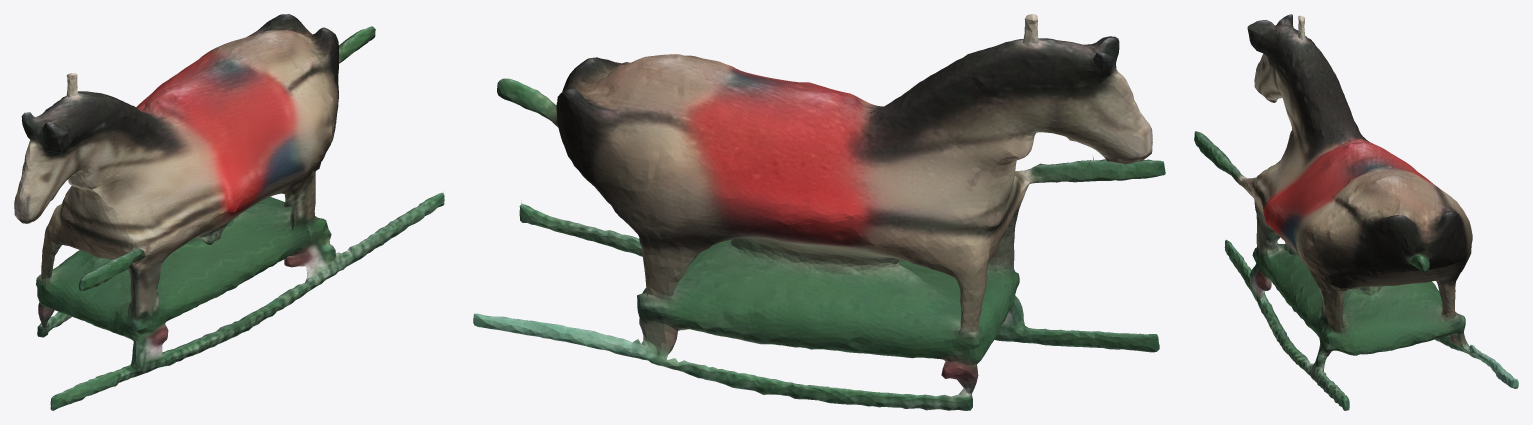
The model's file is IMG_SEG_51.glb.
3 views of the same model, side by side, from view 1: azimuth 30°, elevation 25°; view 2: azimuth 150°, elevation 25°; view 3: azimuth 270°, elevation 25° (orthographic). The views are drawn at different scales.
Bounding box in the file's own units: 1.06 × 0.6398 × 0.705.
1 material, 1 textured.
